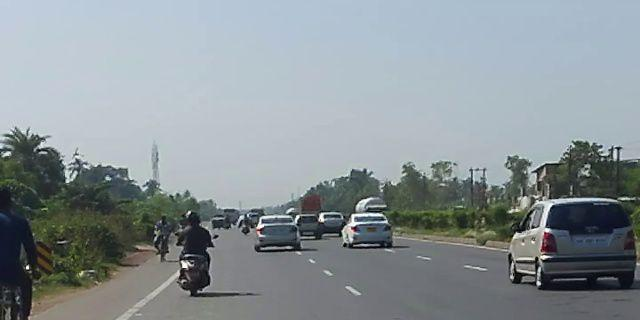Car: (507, 197, 638, 294), (339, 208, 395, 251), (251, 209, 303, 255), (295, 212, 324, 243)
Cycle: (151, 212, 173, 266)
Motorbike: (173, 204, 217, 302)
